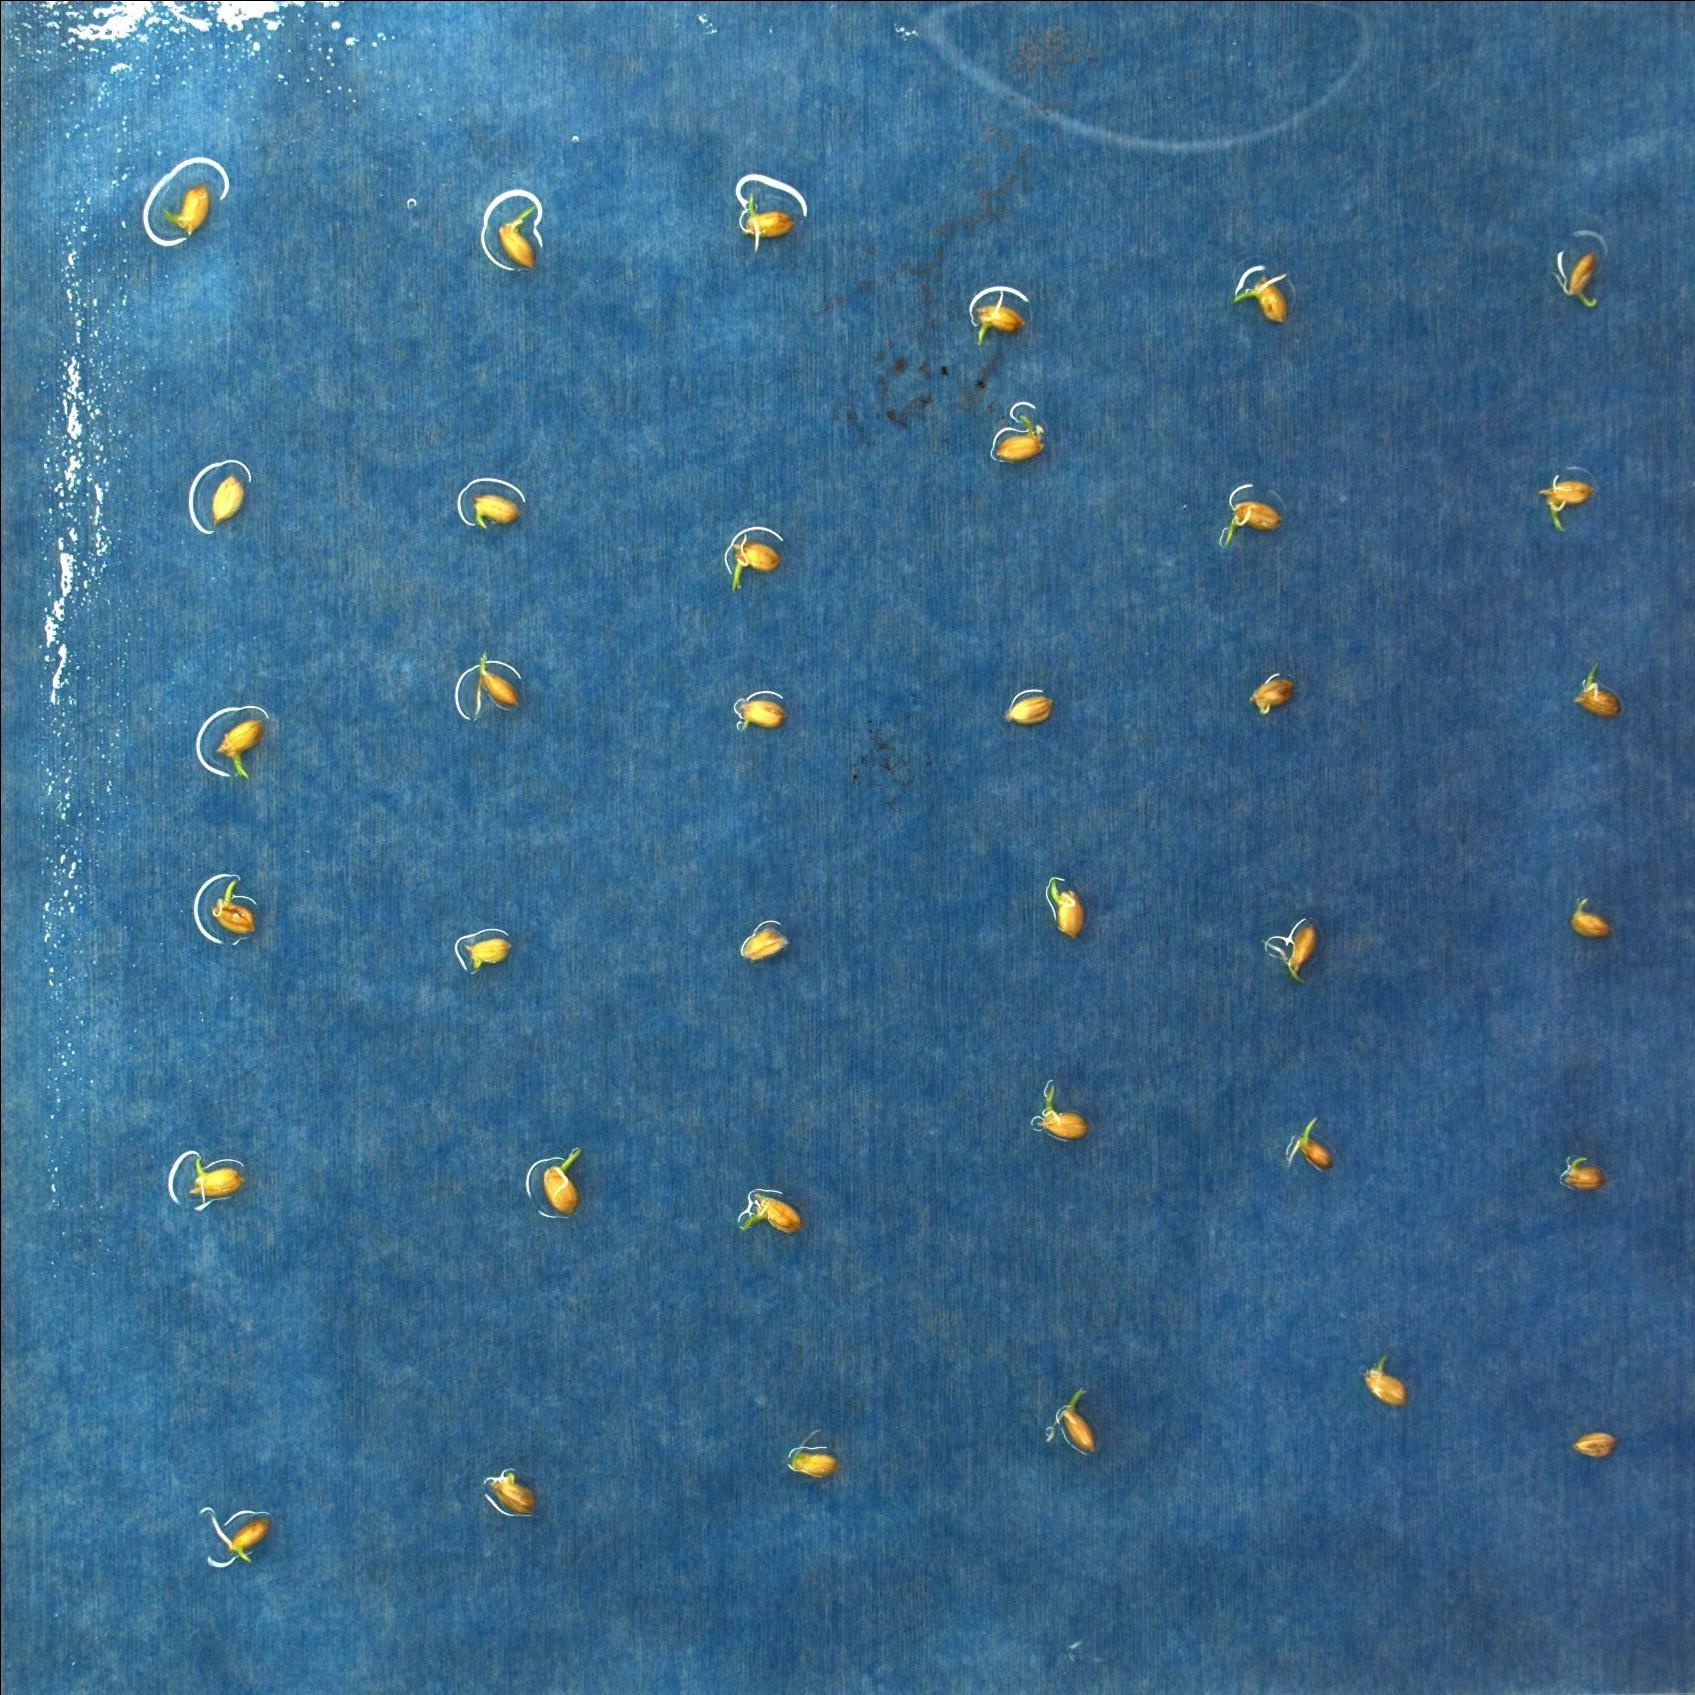not sprout: (466, 650, 517, 719), (206, 1512, 270, 1563), (739, 194, 792, 255), (1232, 272, 1293, 324), (161, 183, 211, 234), (185, 1159, 244, 1201), (211, 882, 256, 936), (1246, 672, 1298, 717), (484, 1471, 536, 1515), (1363, 1357, 1406, 1408), (734, 695, 784, 733), (211, 473, 245, 525), (464, 934, 511, 972), (737, 931, 789, 964), (1568, 899, 1610, 938), (1000, 695, 1054, 725), (1558, 1156, 1603, 1191), (473, 497, 515, 528), (1569, 1433, 1619, 1456)
sprout: (965, 293, 1028, 348), (1263, 922, 1316, 984), (1034, 1082, 1090, 1139), (1538, 473, 1593, 532), (492, 205, 542, 269), (219, 712, 264, 779), (1051, 1388, 1096, 1453), (1220, 500, 1277, 549), (740, 1191, 801, 1237), (726, 534, 778, 587), (787, 1430, 841, 1479), (1551, 253, 1599, 307), (543, 1149, 581, 1215), (1575, 660, 1620, 714), (1288, 1114, 1329, 1169), (1001, 413, 1045, 463), (1049, 882, 1083, 939)
